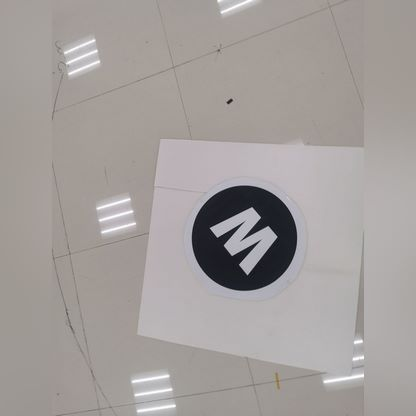W: (172, 172, 317, 293)
